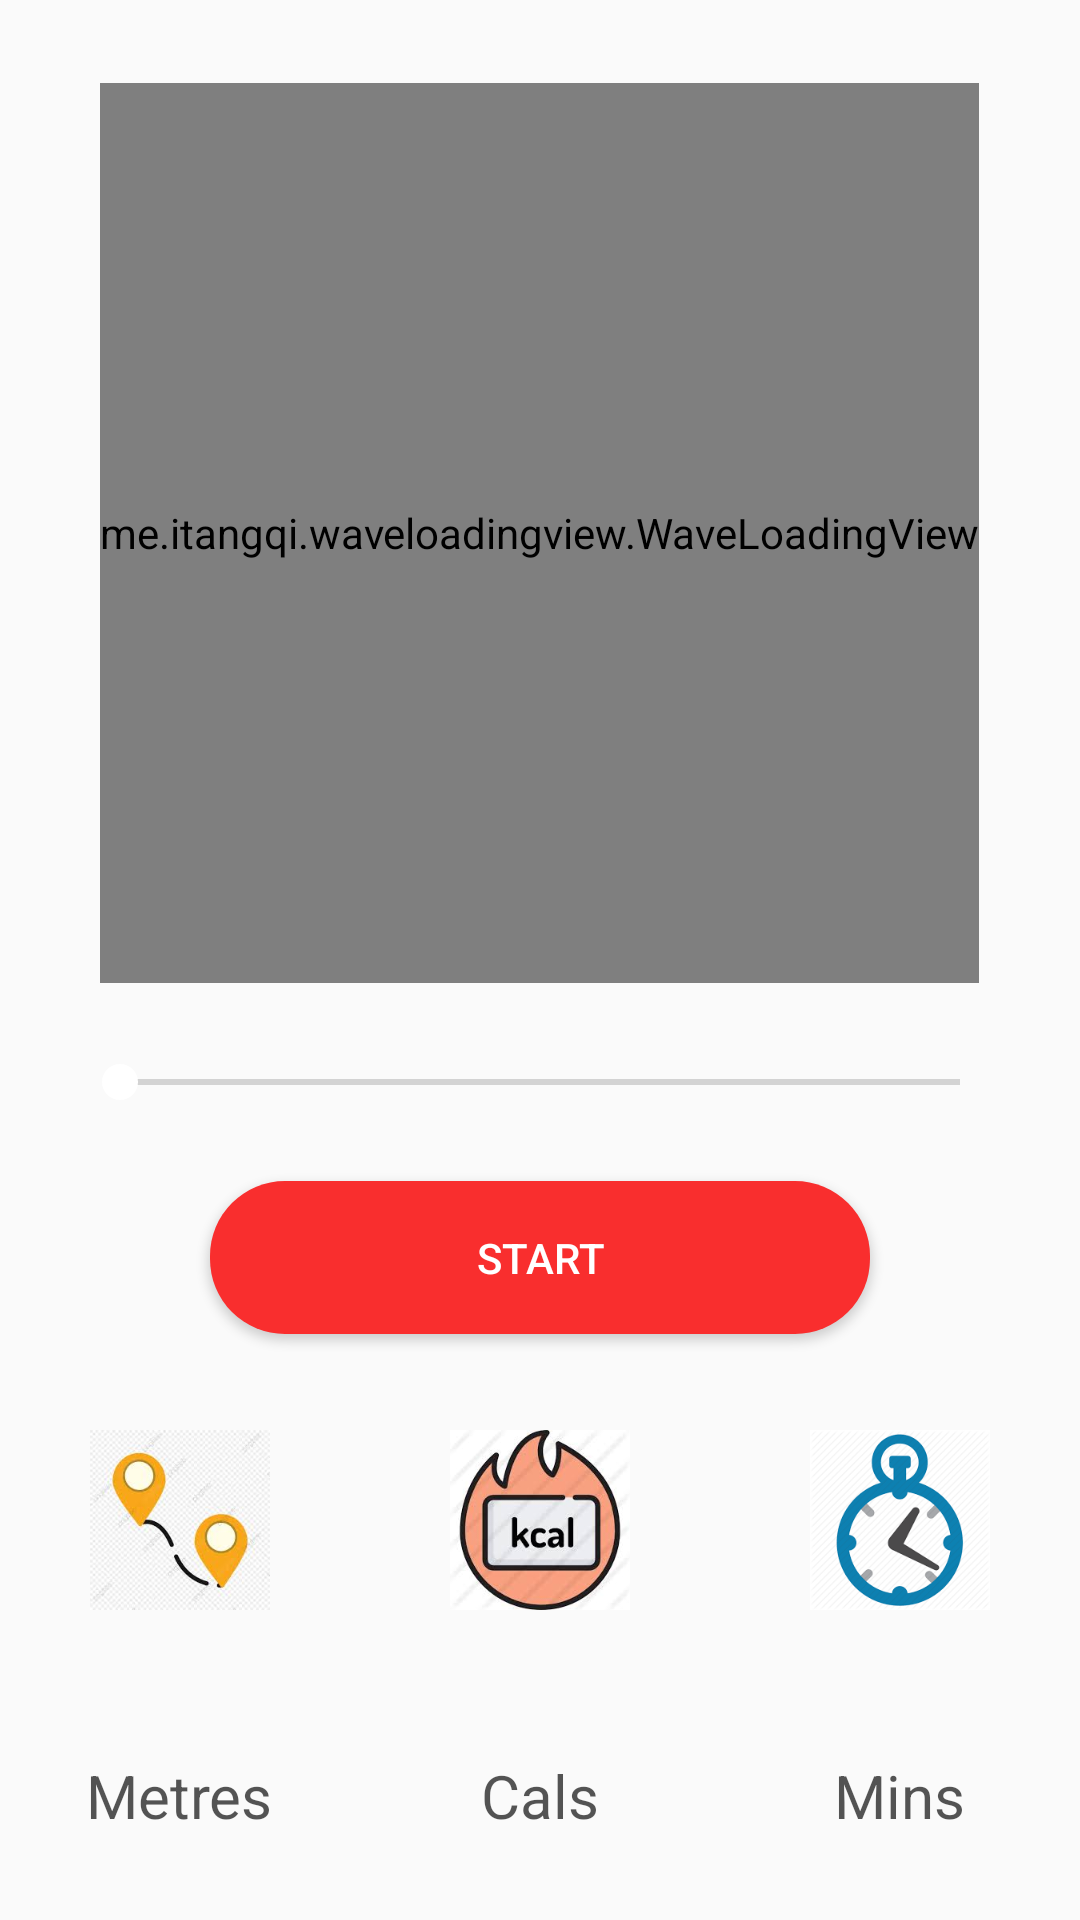

Icon click points for this 1080*1920 phone screenshot, format [x,y]:
clock: [899,1520]
distance: [180,1520]
